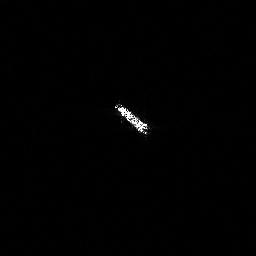ship: (111, 99, 153, 139)
